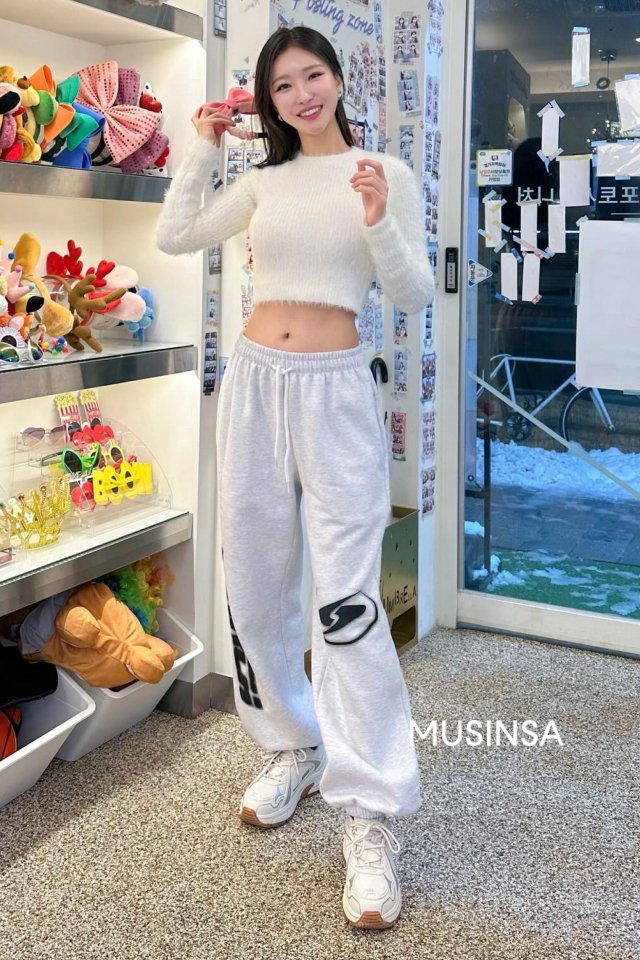Croptop: (144, 135, 442, 350)
Shoes: (235, 734, 411, 935)
Training pants: (211, 335, 436, 820)
